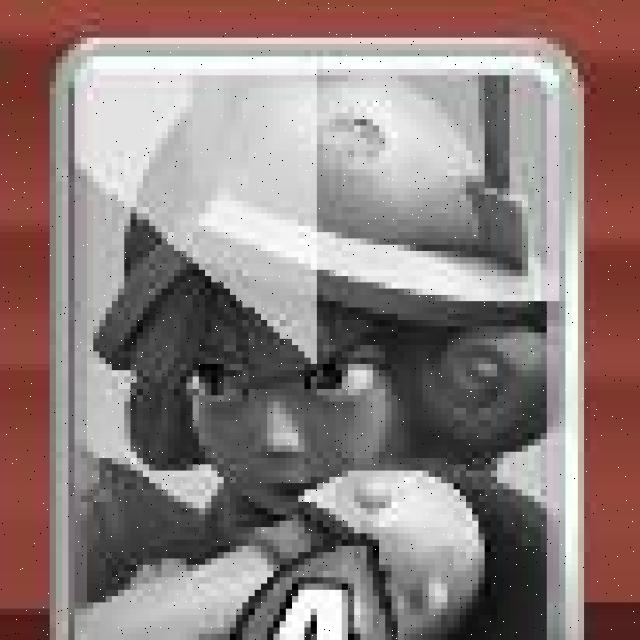Musketeer: (58, 39, 579, 640)
